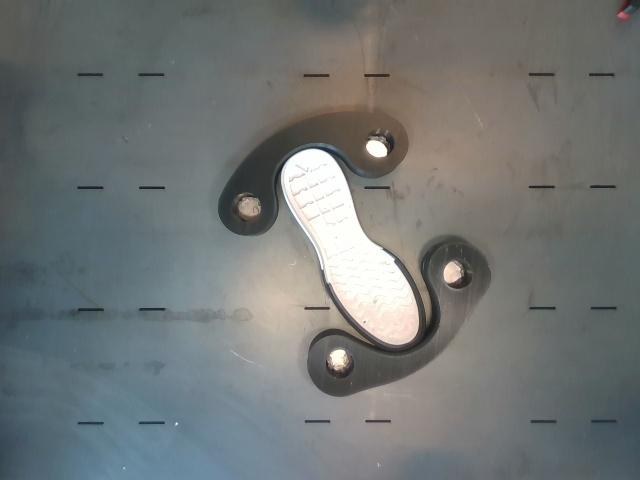shoes: (283, 150, 425, 350)
